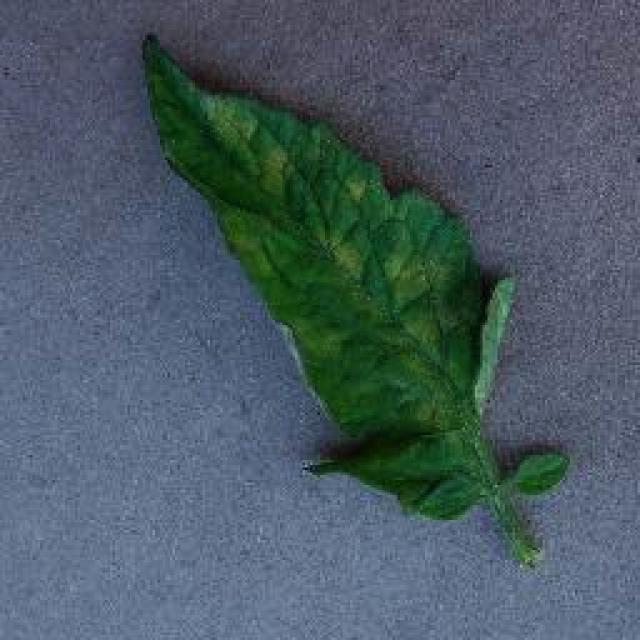Tomato mold leaf: (136, 31, 518, 522)
